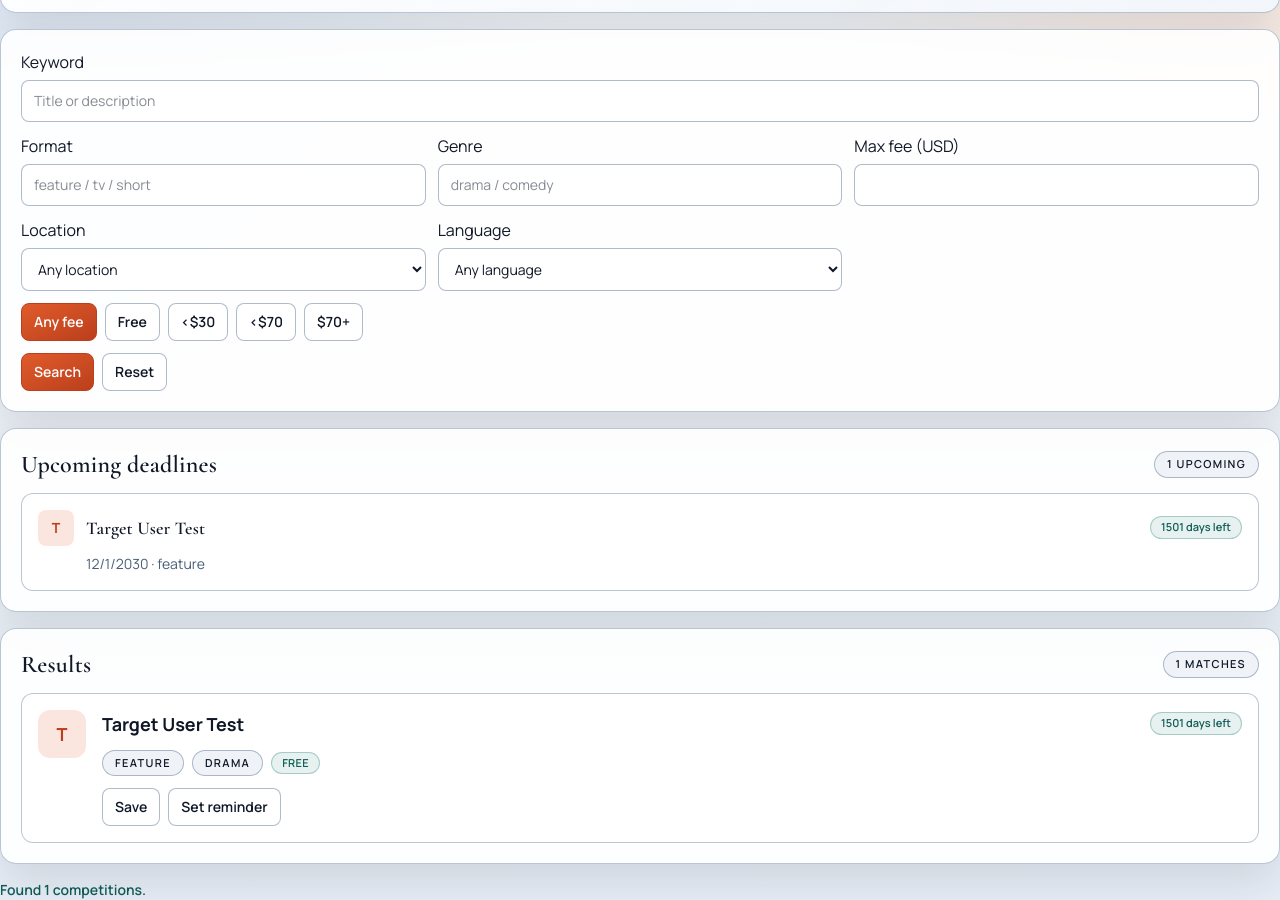
Scenario: CompetitionsPage — branch coverage › sendReminder shows 'Target user ID is required.' when blanked out
(page scrolled)
Expected: the text "Found 1 competitions." is shown, [0,880,146,899]
Click the button "Set reminder" at (224, 807), box [168,788,281,826]
(page scrolled)
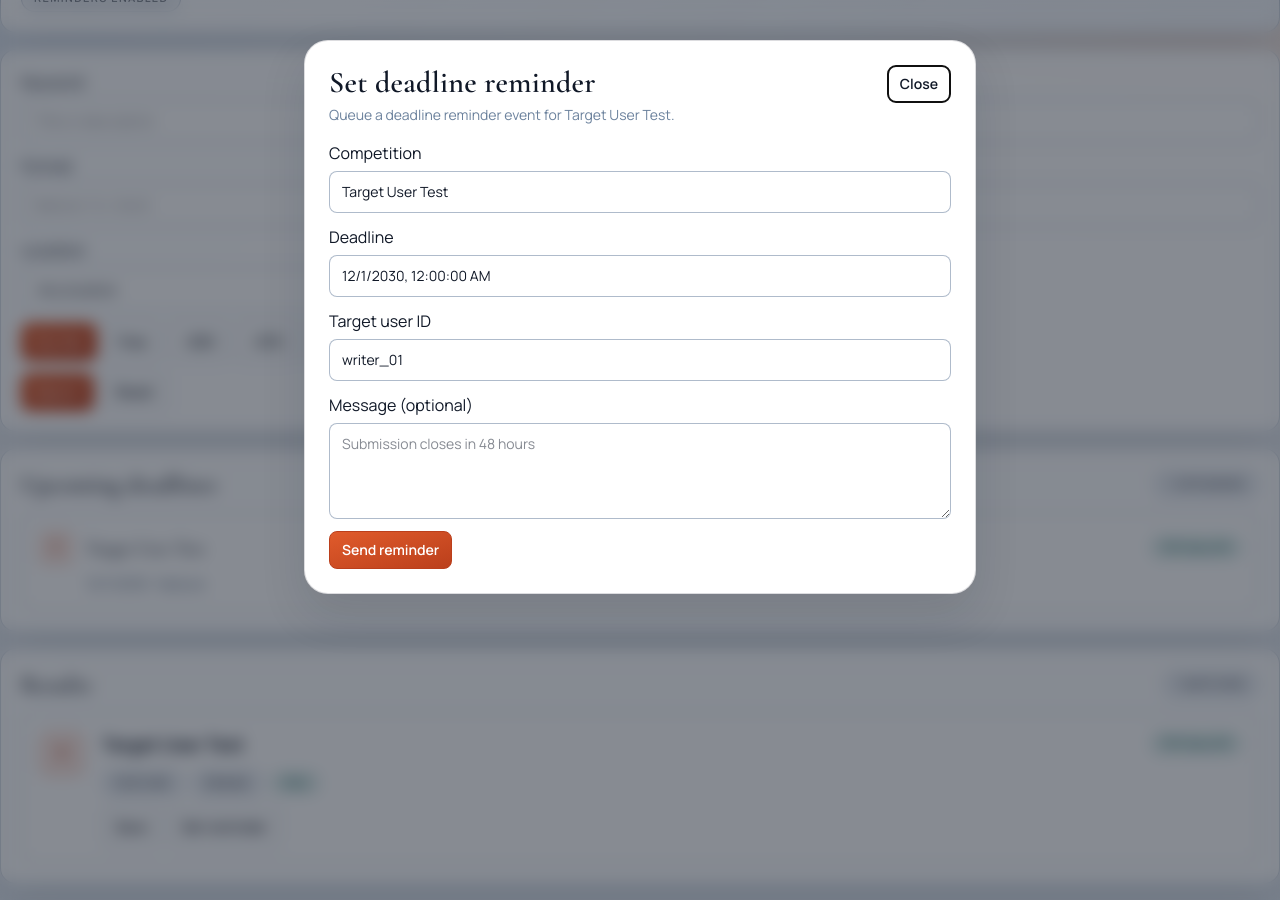
Clear the field labelled "Target user ID" at (640, 360), box [329,339,951,381]
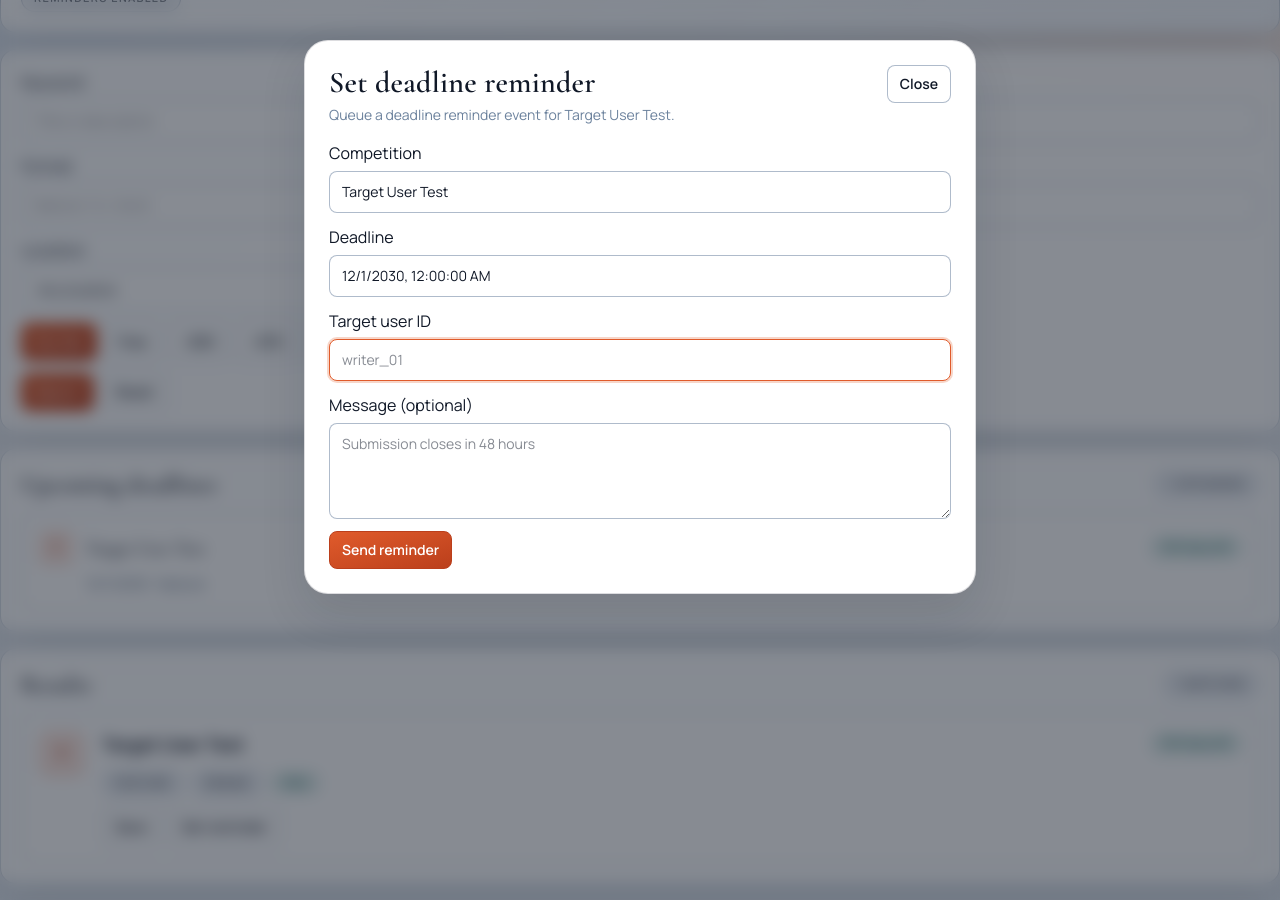
Submit the form "Send reminder", box [329,141,951,569]
(page scrolled)
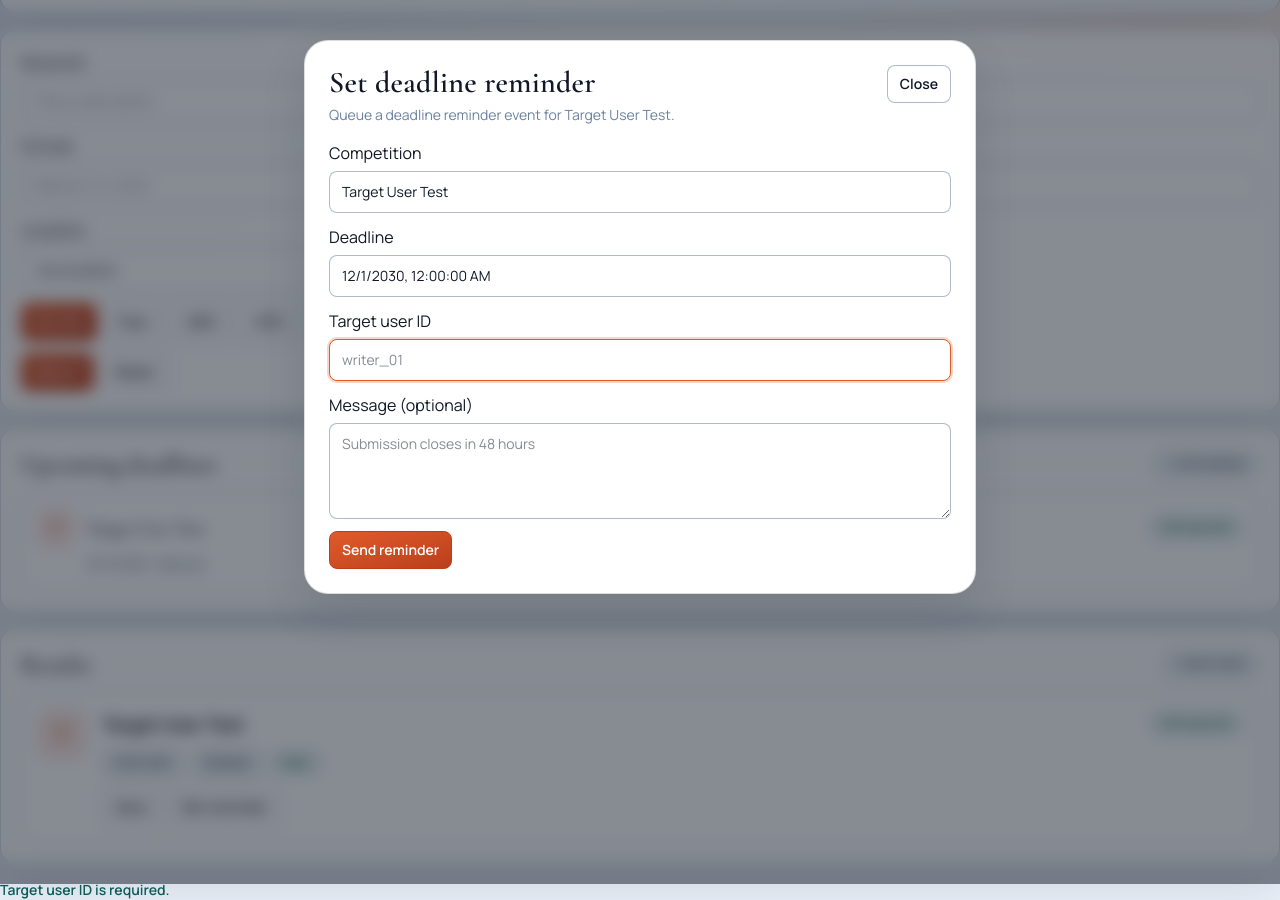
Expected: the text "Target user ID is required." is shown, [0,880,170,899]
